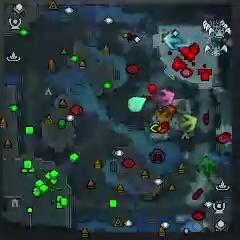p2: (128, 95, 146, 113)
x1: (155, 88, 175, 106)
x2: (180, 113, 198, 132)
x3: (163, 30, 181, 50)
x4: (198, 156, 216, 176)
x5: (154, 108, 172, 124)
